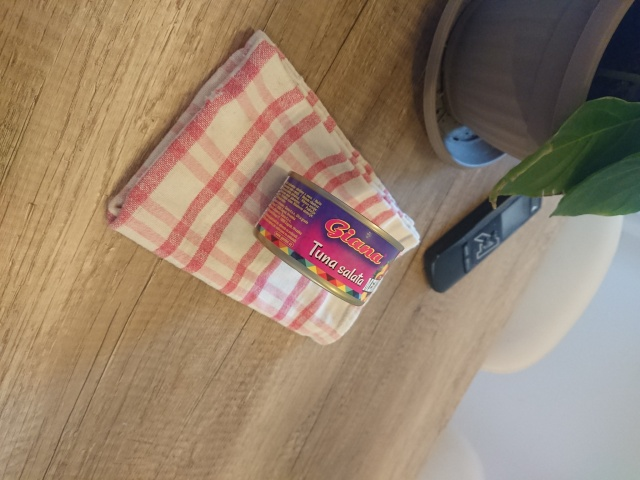Giana Tuna Salad Mexico 185g: (251, 168, 408, 309)
